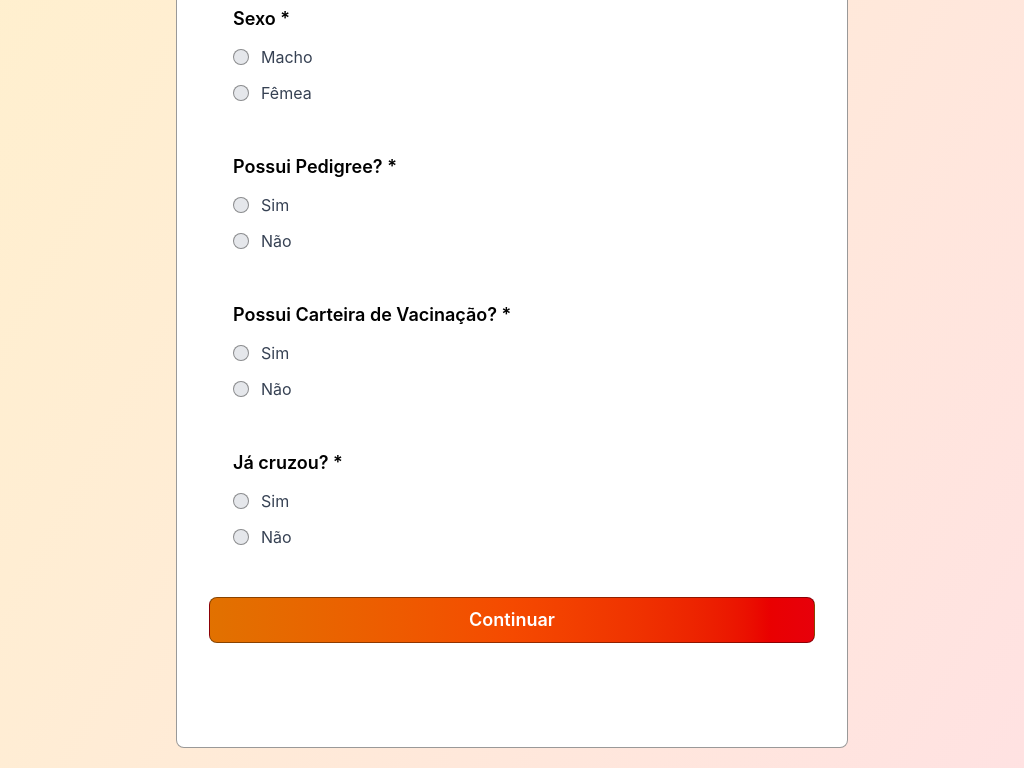
Test: shows error when petName is missing
(page scrolled)
Click the button "Continuar" at coordinates (512, 620), box [209,597,815,643]
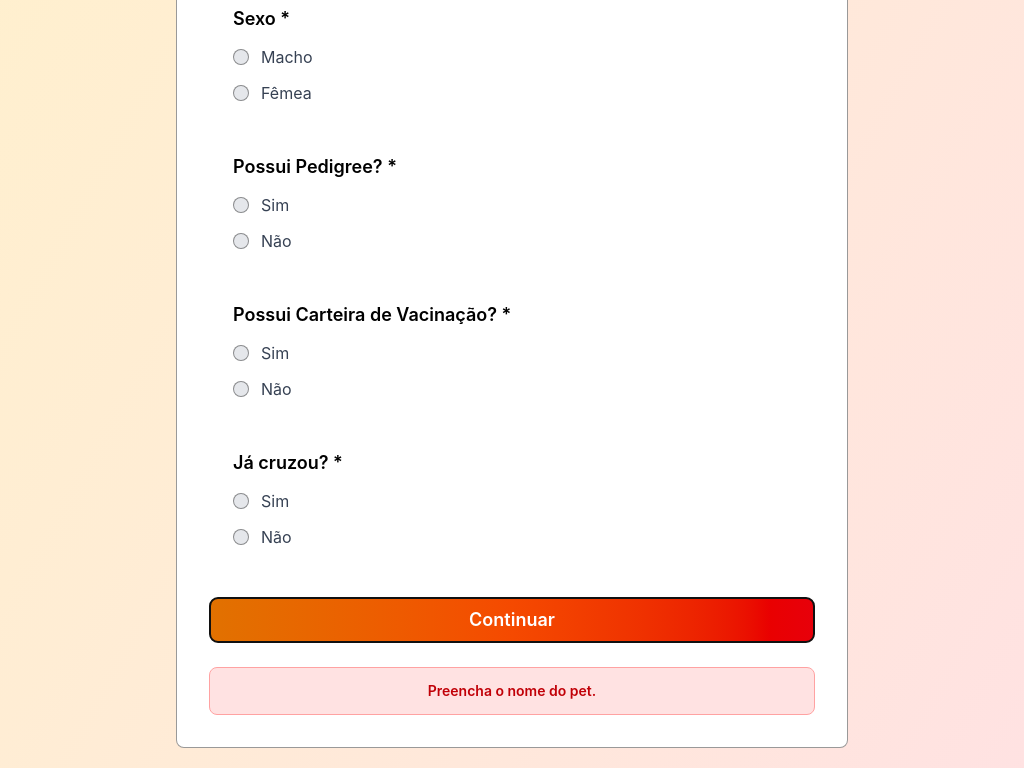
expect the text "Preencha o nome do pet." is shown: met, box [209,667,815,715]
